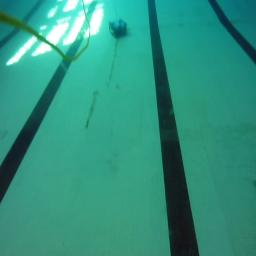front: (108, 18, 128, 39)
